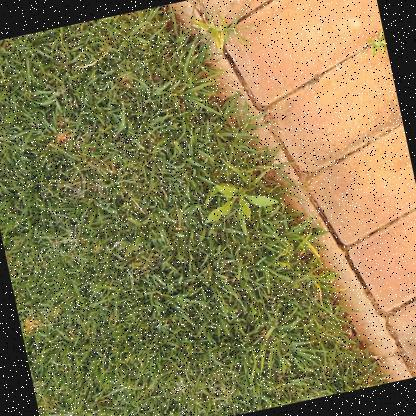Weeds: (196, 172, 282, 230)
